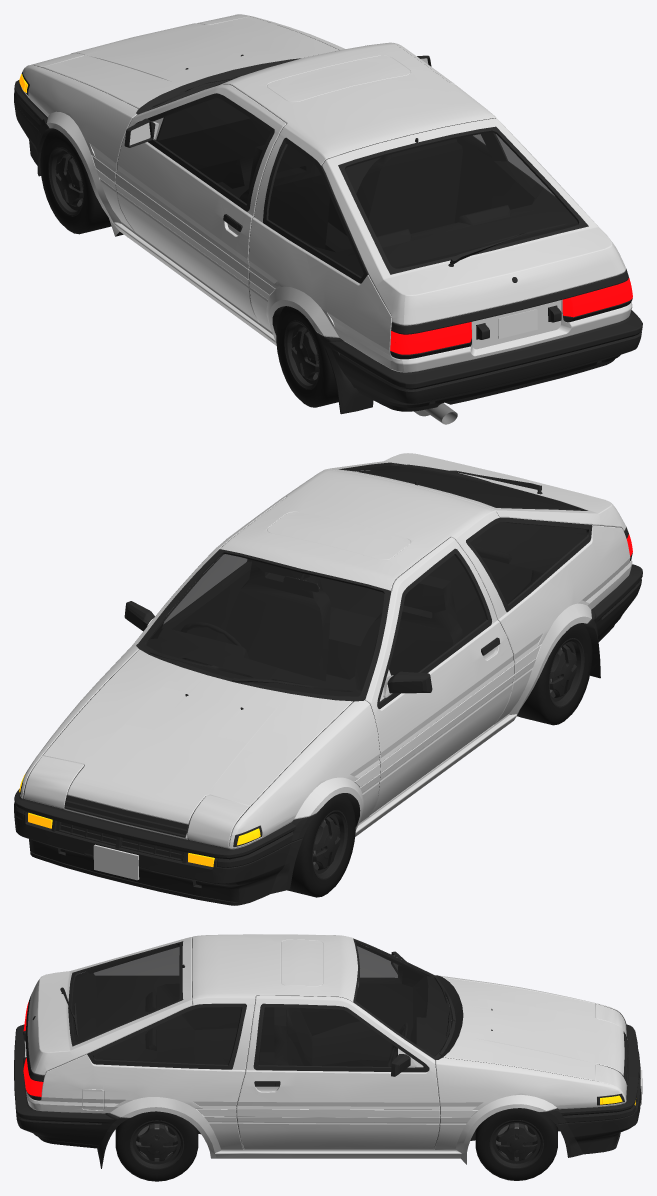
File: Engine.glb
3 views of the same model, one above another, from view 1: azimuth 30°, elevation 25°; view 2: azimuth 150°, elevation 25°; view 3: azimuth 270°, elevation 25° (orthographic). The views are drawn at different scales.
Parts seen in each view (by area): view 1: Toyota Corolla AE86_4, Front Left Wheel_0, Rear Wheels_3; view 2: Toyota Corolla AE86_4, Front Left Wheel_0, Rear Wheels_3, Lights_2; view 3: Toyota Corolla AE86_4, Front Right Wheel_1, Rear Wheels_3, Lights_2.
Part boxes in pixels (x1=…): Toyota Corolla AE86_4: x1=14, y1=14, x2=642, y2=424; Front Left Wheel_0: x1=40, y1=129, x2=111, y2=234; Rear Wheels_3: x1=276, y1=306, x2=338, y2=407; Toyota Corolla AE86_4: x1=14, y1=453, x2=642, y2=905; Front Left Wheel_0: x1=287, y1=793, x2=355, y2=897; Rear Wheels_3: x1=517, y1=623, x2=592, y2=725; Lights_2: x1=24, y1=756, x2=249, y2=848; Toyota Corolla AE86_4: x1=14, y1=934, x2=642, y2=1168; Front Right Wheel_1: x1=475, y1=1108, x2=557, y2=1180; Rear Wheels_3: x1=115, y1=1111, x2=198, y2=1181; Lights_2: x1=595, y1=1004, x2=626, y2=1099.
Bounding box in the file's own units: 0.8085 × 0.5704 × 1.88.
